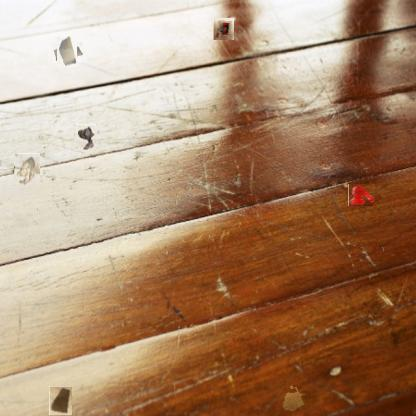dirty: (14, 153, 40, 186), (49, 386, 72, 415), (55, 39, 80, 65), (74, 124, 96, 151), (213, 19, 234, 40)
liquid: (282, 386, 306, 414), (348, 184, 375, 206)
